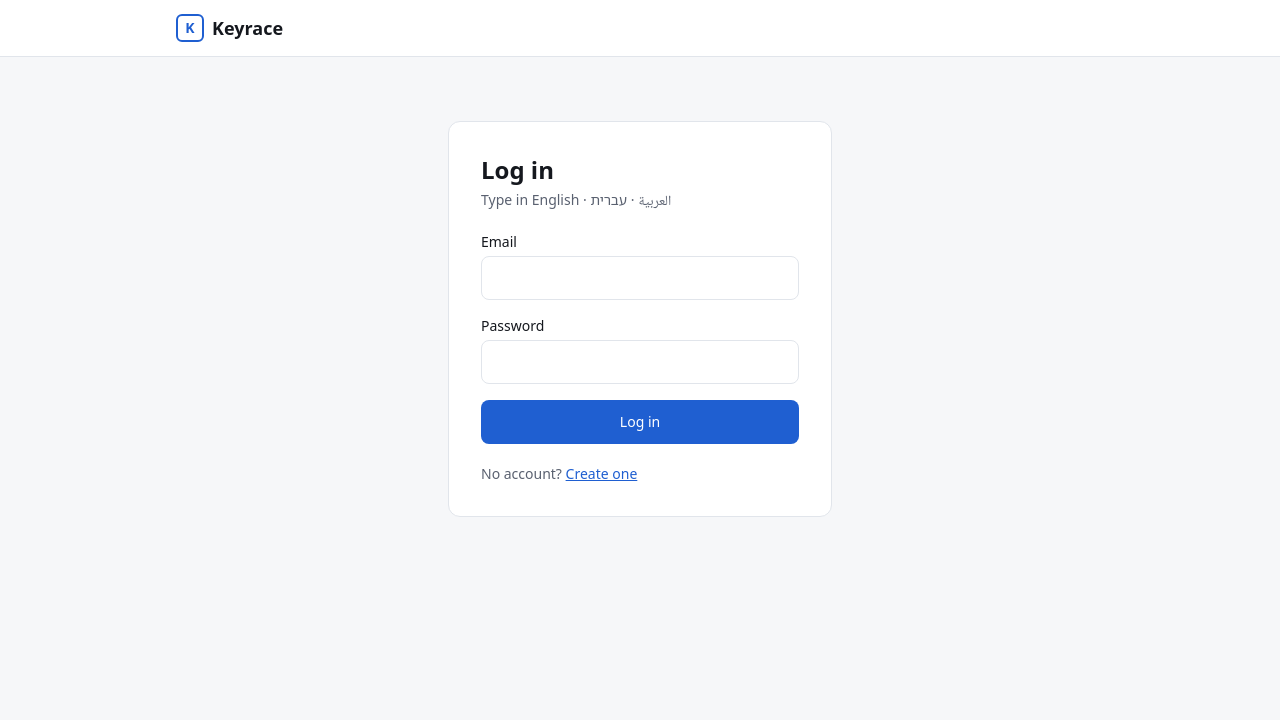
Test: auth flow › puts a wrong password message under the password field, in words
In the field labelled "Email": (640, 278) x1=481 y1=256 x2=799 y2=300, type "nell@example.com"
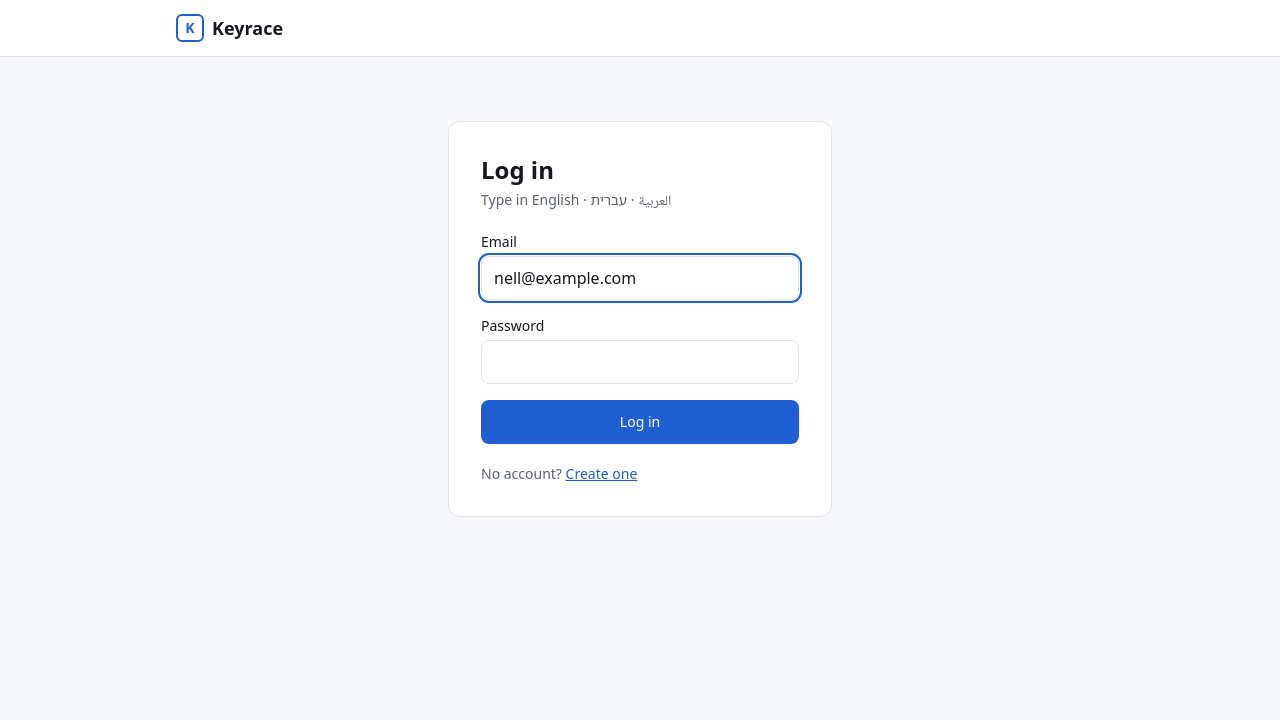
In the password field labelled "Password": (640, 362) x1=481 y1=340 x2=799 y2=384, type "wrong password"
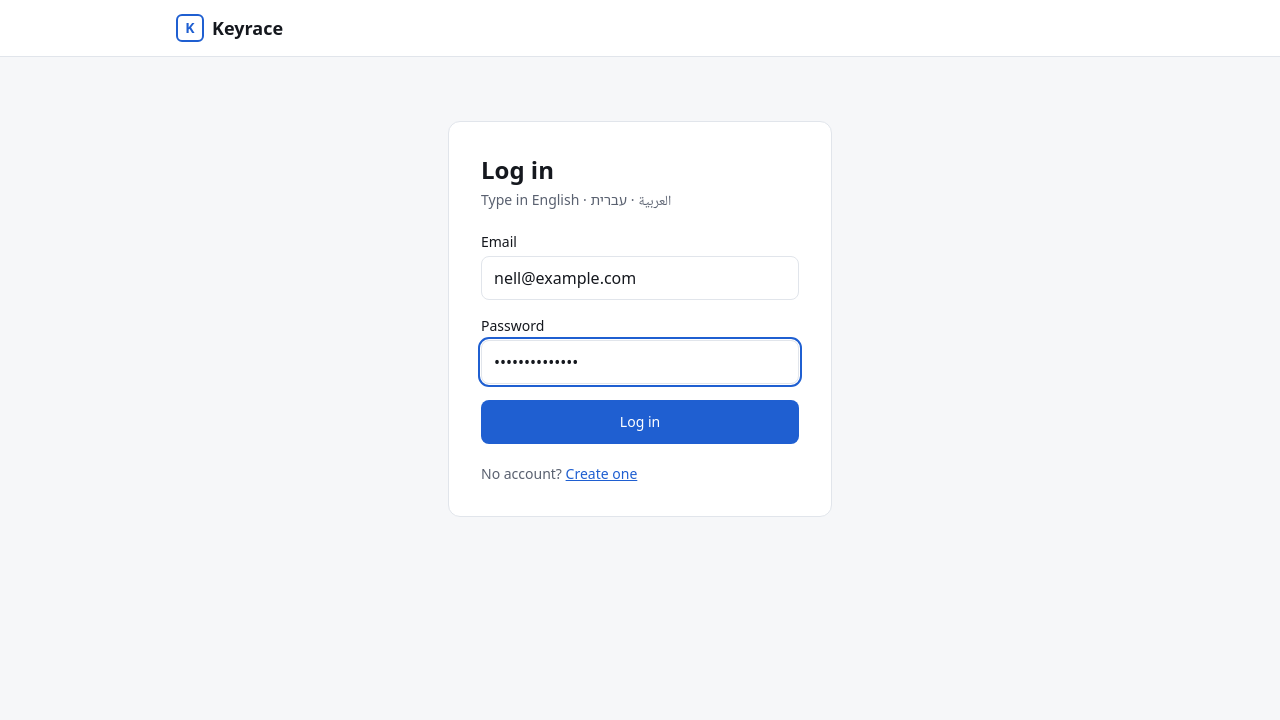
Press Enter
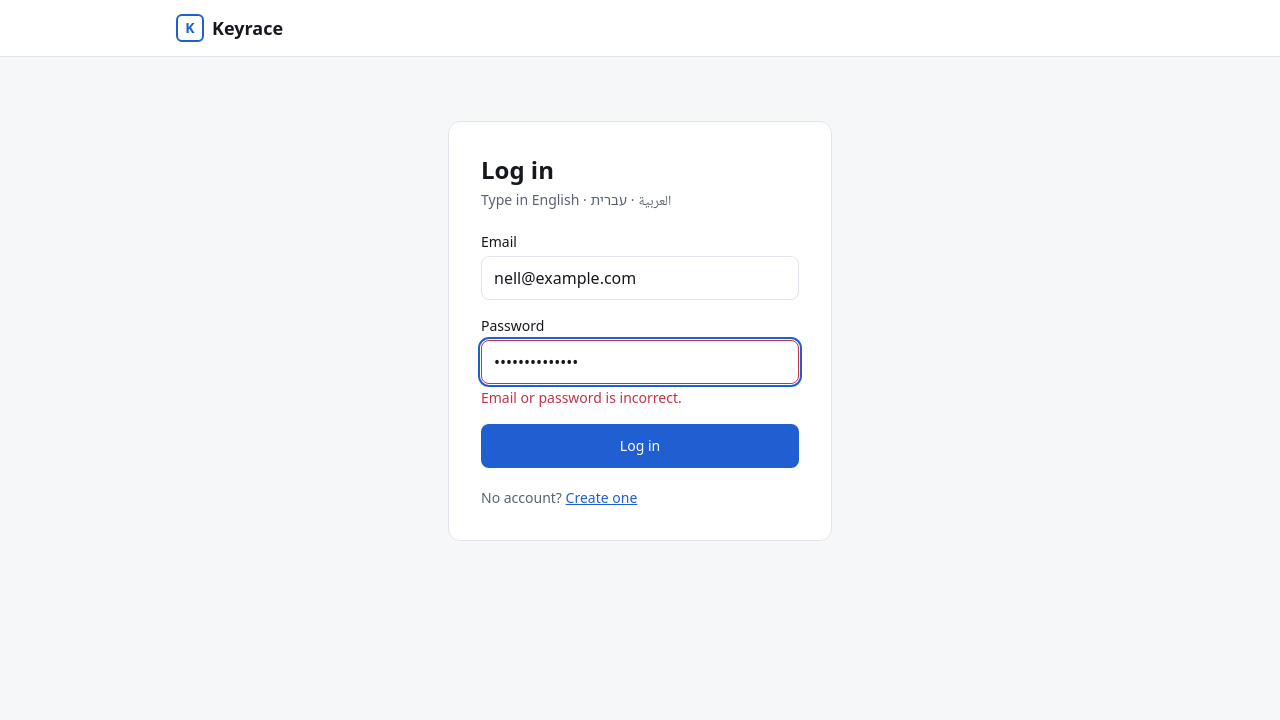
Result: the message reads "Email or password is incorrect." at x1=481 y1=388 x2=682 y2=407
